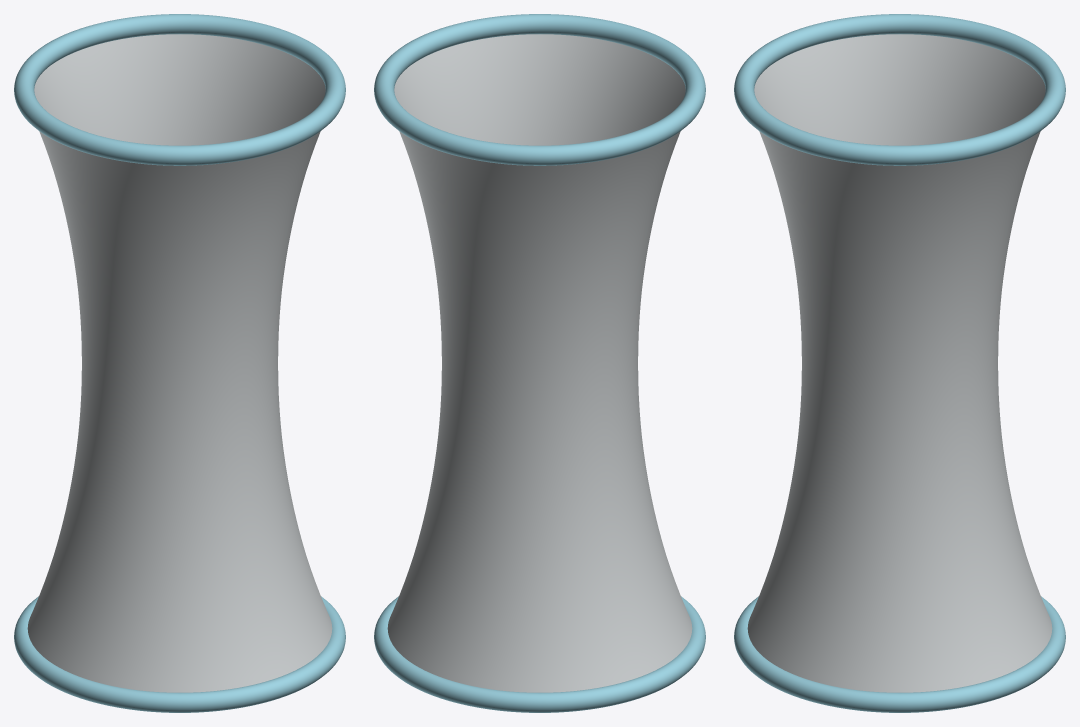
3 views of the same model, side by side, from view 1: azimuth 30°, elevation 25°; view 2: azimuth 150°, elevation 25°; view 3: azimuth 270°, elevation 25° (orthographic).
Visible parts, largest first — view 1: catenoid-film, boundary-ring-0.8, boundary-ring--0.8; view 2: catenoid-film, boundary-ring-0.8, boundary-ring--0.8; view 3: catenoid-film, boundary-ring-0.8, boundary-ring--0.8.
Boxes of the visible parts, x1,y1,x2,y2 form: catenoid-film: (27,34,332,692); boundary-ring-0.8: (14,14,345,165); boundary-ring--0.8: (14,596,345,712); catenoid-film: (387,34,692,692); boundary-ring-0.8: (374,14,705,165); boundary-ring--0.8: (374,596,705,712); catenoid-film: (747,34,1052,692); boundary-ring-0.8: (734,14,1065,165); boundary-ring--0.8: (734,596,1065,712).
Size of the model in its own units: 0.88 by 1.65 by 0.88.
